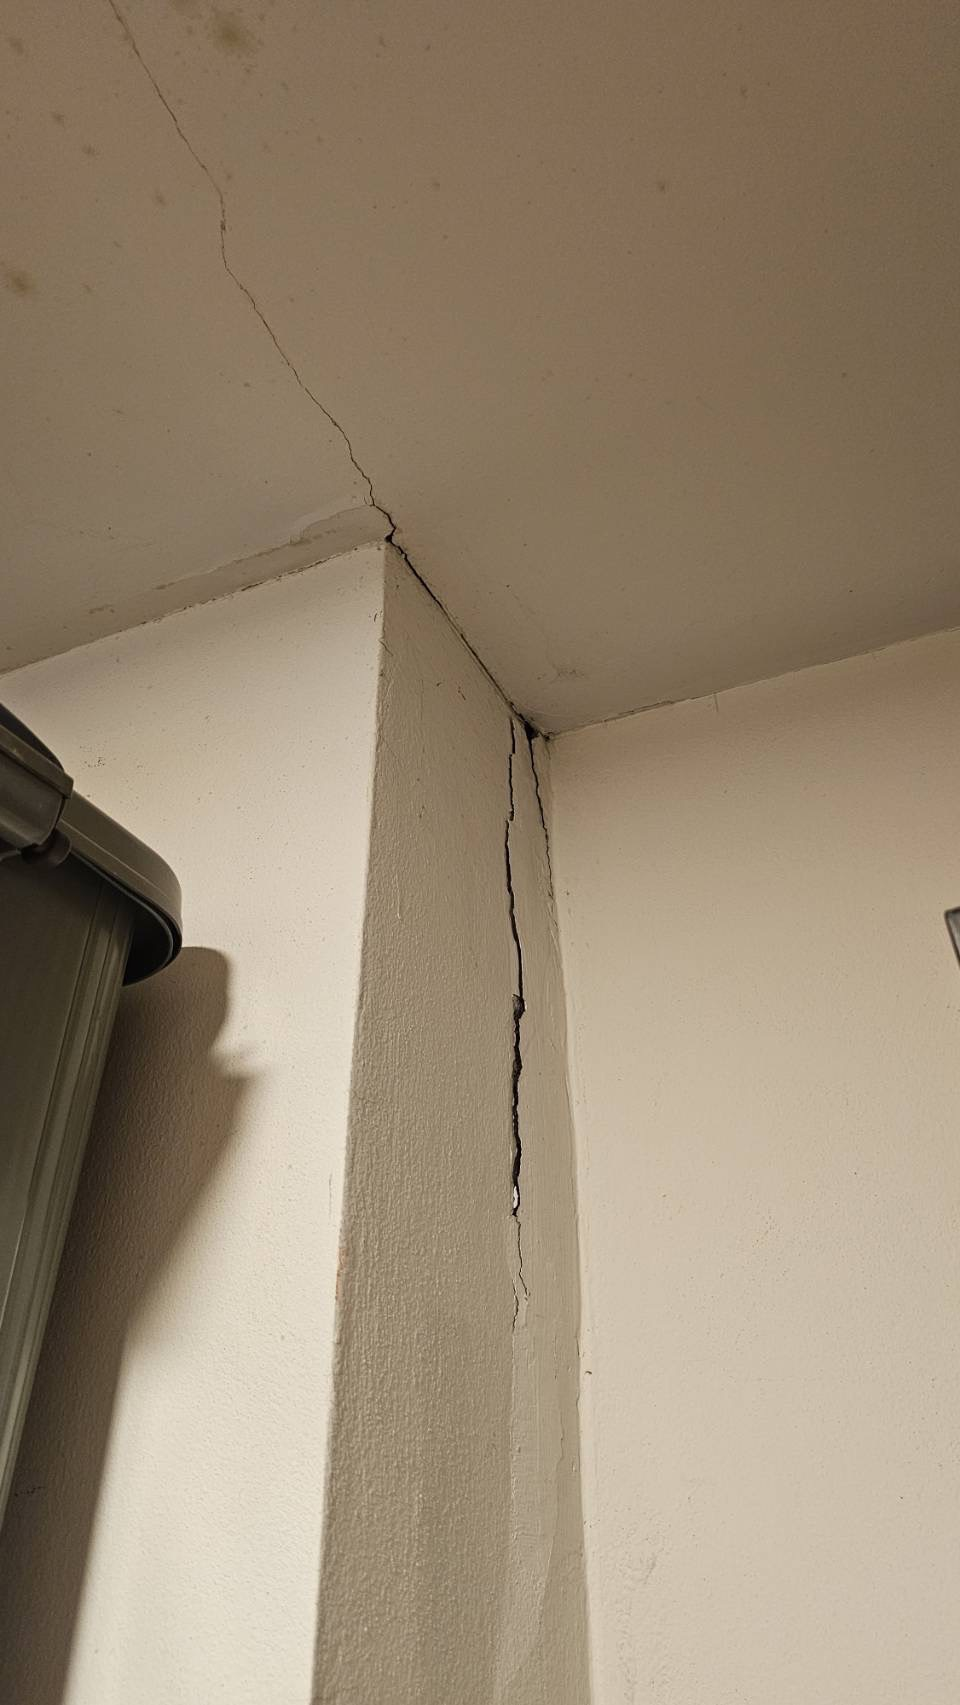Medium: (465, 698, 639, 1363)
